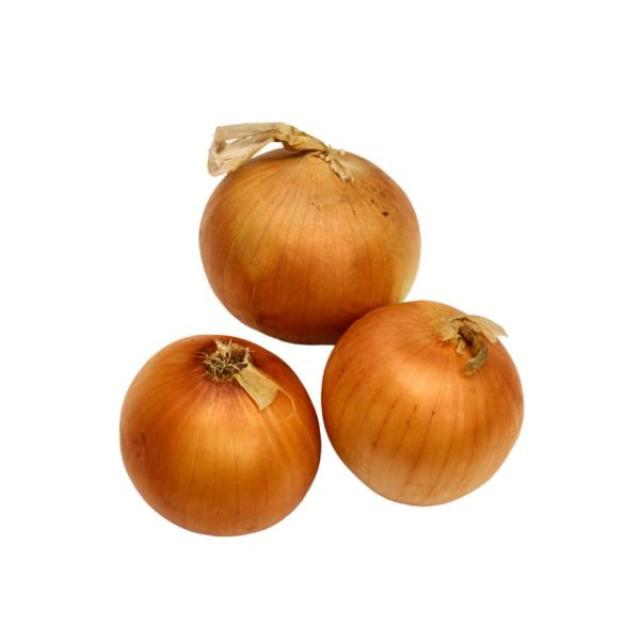Onion: (198, 126, 422, 347), (321, 302, 525, 509), (119, 334, 322, 540)
